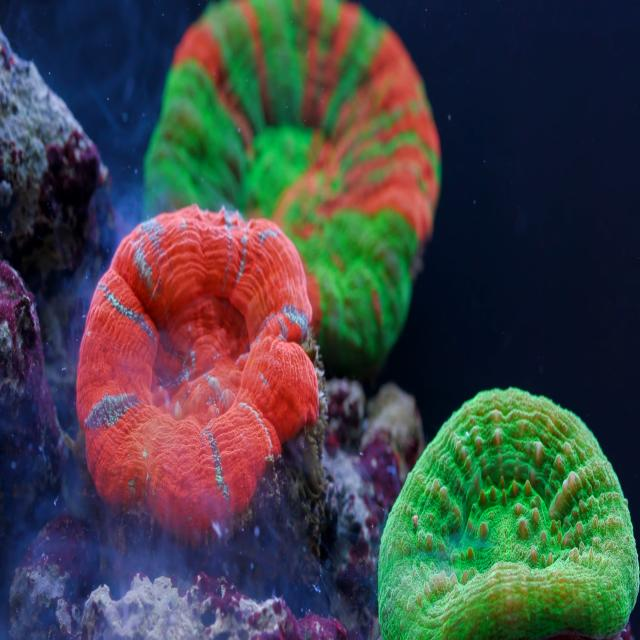Scolymia-Vitiensis -Poisonous-: (152, 2, 432, 334), (76, 212, 314, 540), (378, 383, 640, 640)
